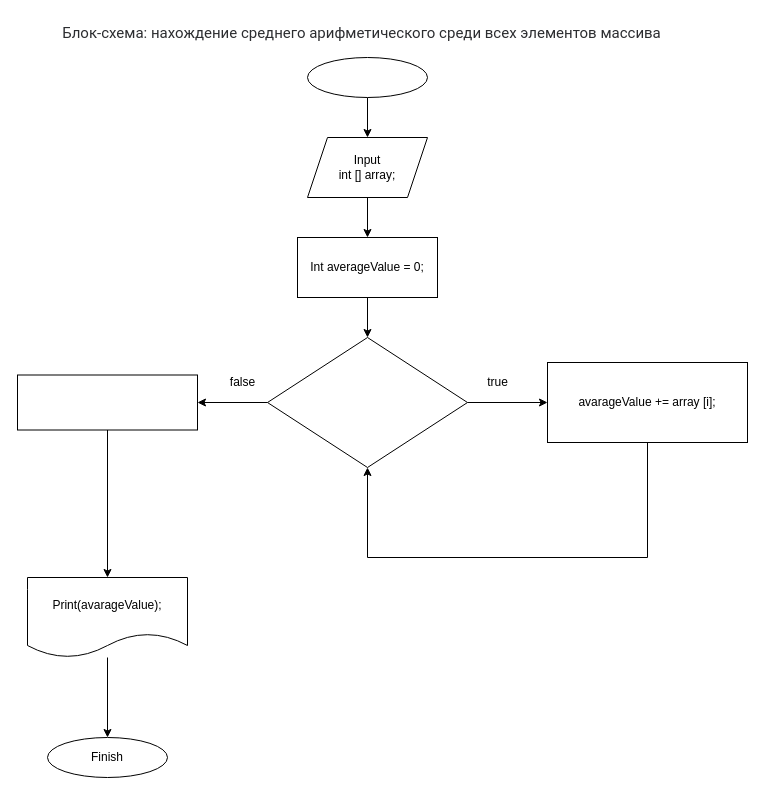
The diagram is 765 pixels wide and 795 high, and some of its shapes have lost their labels. The shapes that lost their labels are listed below. From the top down, each one's centre as x and y in pixels, then its label:
[367,77]: Start
[107,402]: avarageValue /= array.lenght;
[367,402]: for (i = 0; i < array.lenght; i++)
